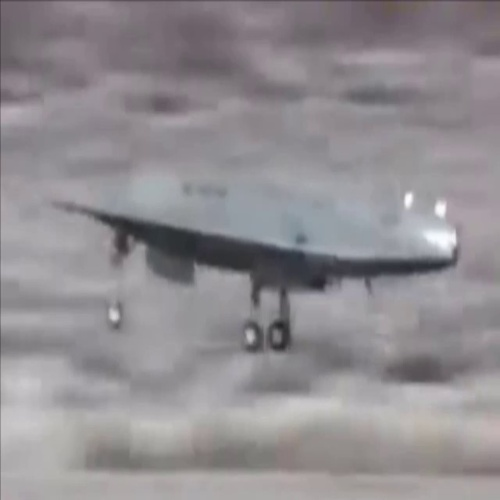uav1053: (40, 179, 463, 352)
